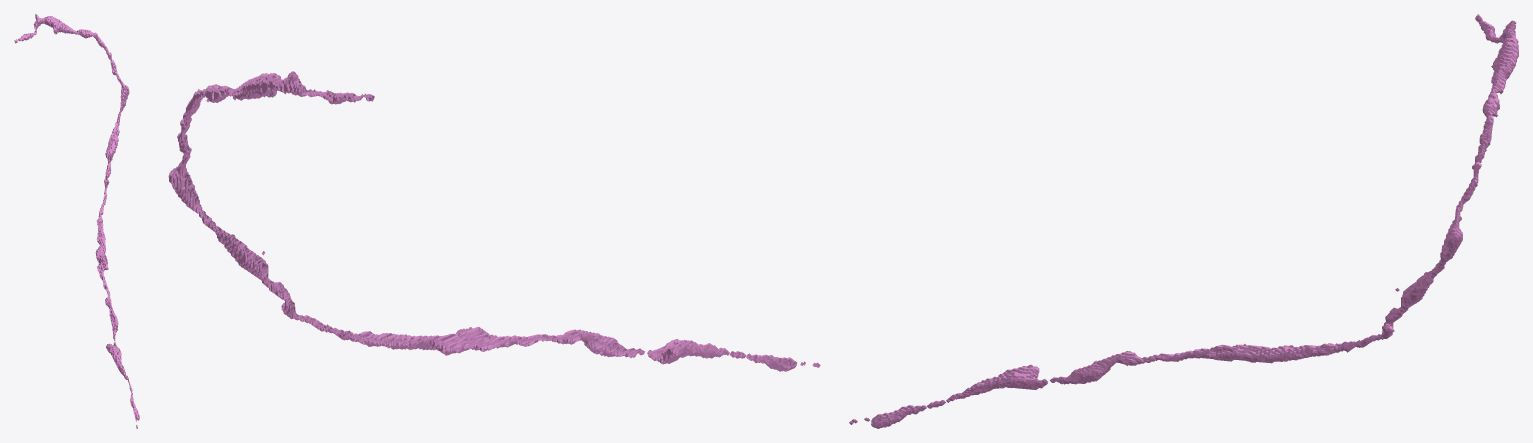
File: SVV_PVCR.gltf
The picture shows the model from 3 angles, left to right: view 1: azimuth 30°, elevation 25°; view 2: azimuth 150°, elevation 25°; view 3: azimuth 270°, elevation 25°; orthographic projection. The views are drawn at different scales.
Parts seen in each view (by area): view 1: PVCR; view 2: PVCR; view 3: PVCR.
Boxes of the visible parts, x1,y1,x2,y2 form: PVCR: (14, 14, 139, 428); PVCR: (168, 71, 820, 371); PVCR: (849, 14, 1518, 428).
Bounding box in the file's own units: 97777 × 154365 × 196998.
